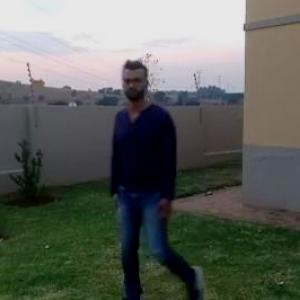follow: (106, 57, 203, 299)
